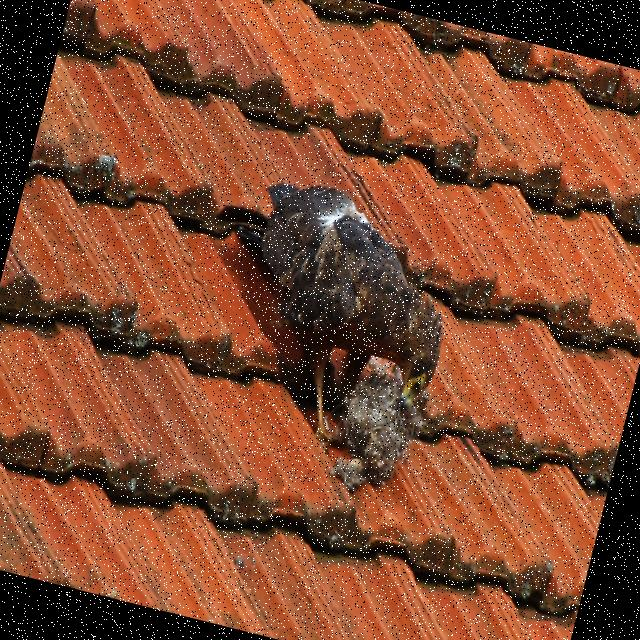bird: (164, 158, 473, 470)
